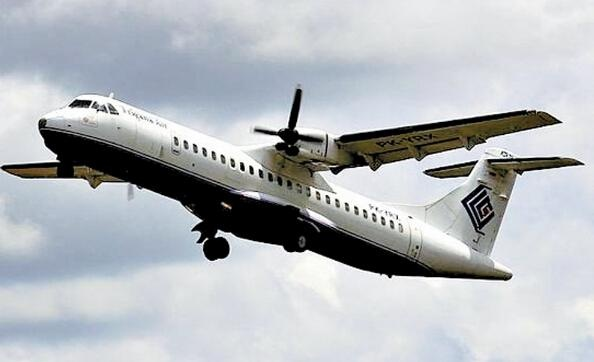airplane: (1, 89, 578, 288)
